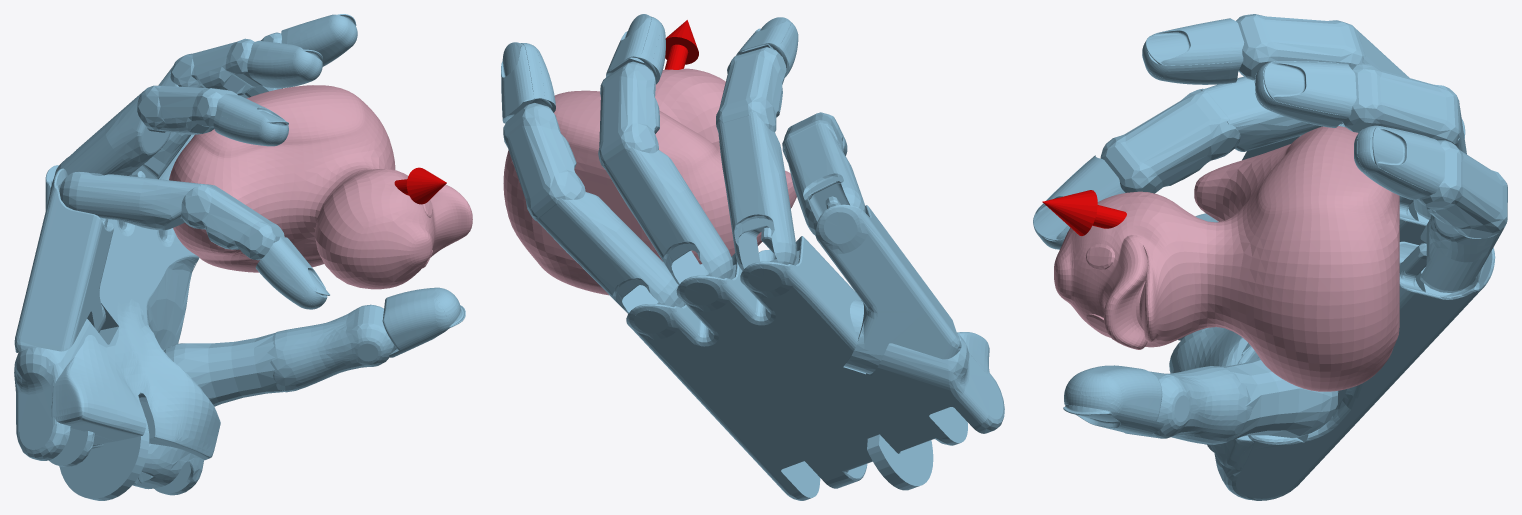
The picture shows the model from 3 angles, left to right: view 1: azimuth 30°, elevation 25°; view 2: azimuth 150°, elevation 25°; view 3: azimuth 270°, elevation 25°; orthographic projection. The views are drawn at different scales.
Parts seen in each view (by area): view 1: world, rubber_duck.stl; view 2: world, rubber_duck.stl; view 3: world, rubber_duck.stl.
Part boxes in pixels (x1,y1,x2,y2): world: [14, 14, 465, 500]; rubber_duck.stl: [169, 85, 472, 289]; world: [501, 14, 1004, 500]; rubber_duck.stl: [503, 68, 796, 295]; world: [1033, 14, 1507, 500]; rubber_duck.stl: [1054, 126, 1399, 391].
Size of the model in its own units: 0.167 by 0.1603 by 0.1317.
